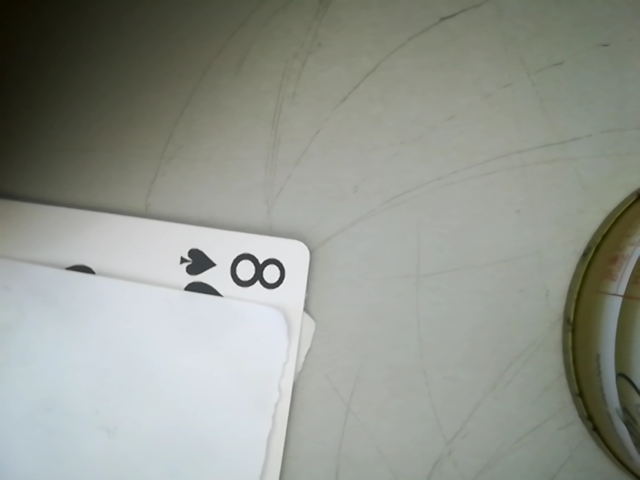ht 8: (156, 235, 302, 306)
